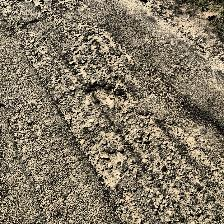pothole: (86, 82, 124, 106)
